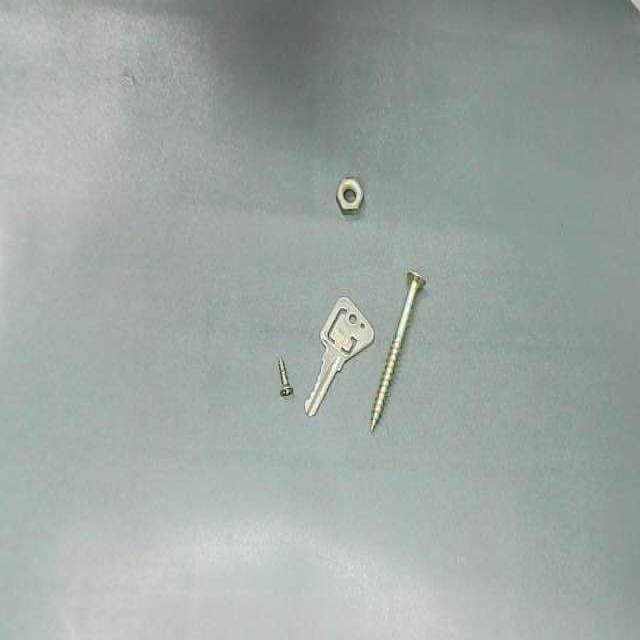Parafuso: (370, 272, 424, 431), (278, 359, 292, 397)
Porca: (336, 178, 363, 214)
